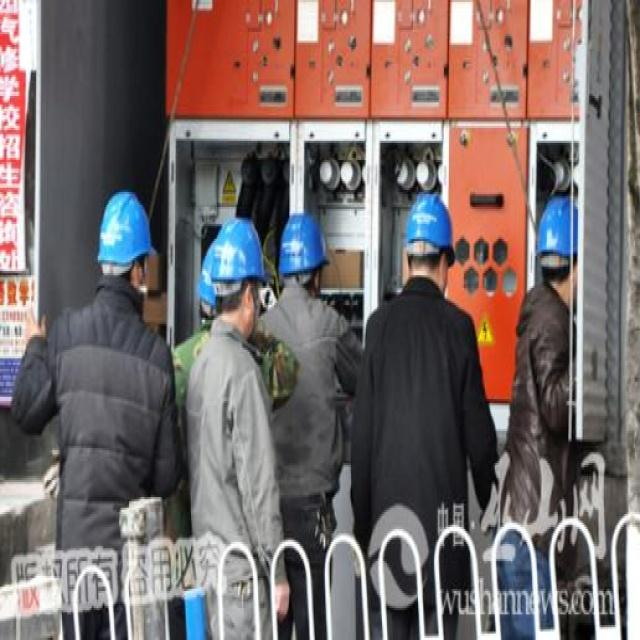helmet: (212, 285, 262, 444), (97, 253, 149, 396), (404, 256, 454, 396), (538, 263, 581, 416), (278, 282, 323, 390)
